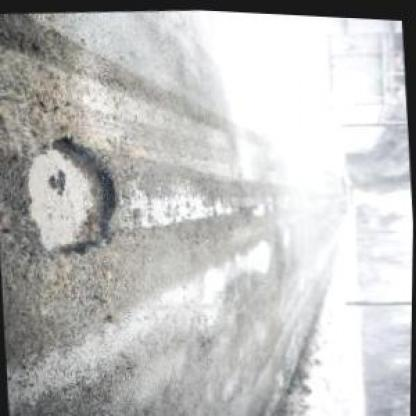pothole: (21, 127, 129, 264)
